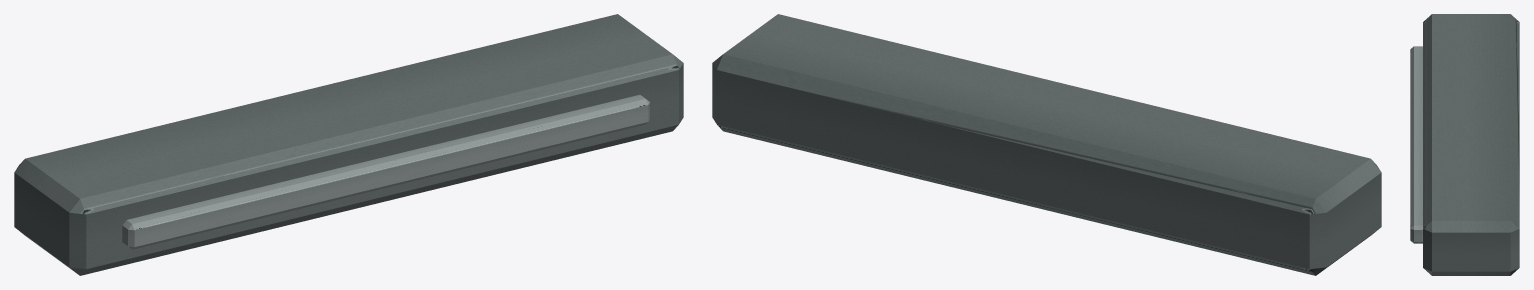
The model's file is beam_2m_LOD1.obj.
The picture shows the model from 3 angles, left to right: view 1: azimuth 30°, elevation 25°; view 2: azimuth 150°, elevation 25°; view 3: azimuth 270°, elevation 25°; orthographic projection. The views are drawn at different scales.
Parts seen in each view (by area): view 1: L02_beam_2m_LOD1; view 2: L02_beam_2m_LOD1; view 3: L02_beam_2m_LOD1.
Part boxes in pixels (<box>): L02_beam_2m_LOD1: <box>14,14,683,275</box>; L02_beam_2m_LOD1: <box>712,14,1381,275</box>; L02_beam_2m_LOD1: <box>1410,14,1519,275</box>.
Size of the model in its own units: 2 by 0.24 by 0.43.
1 material, 1 textured.
